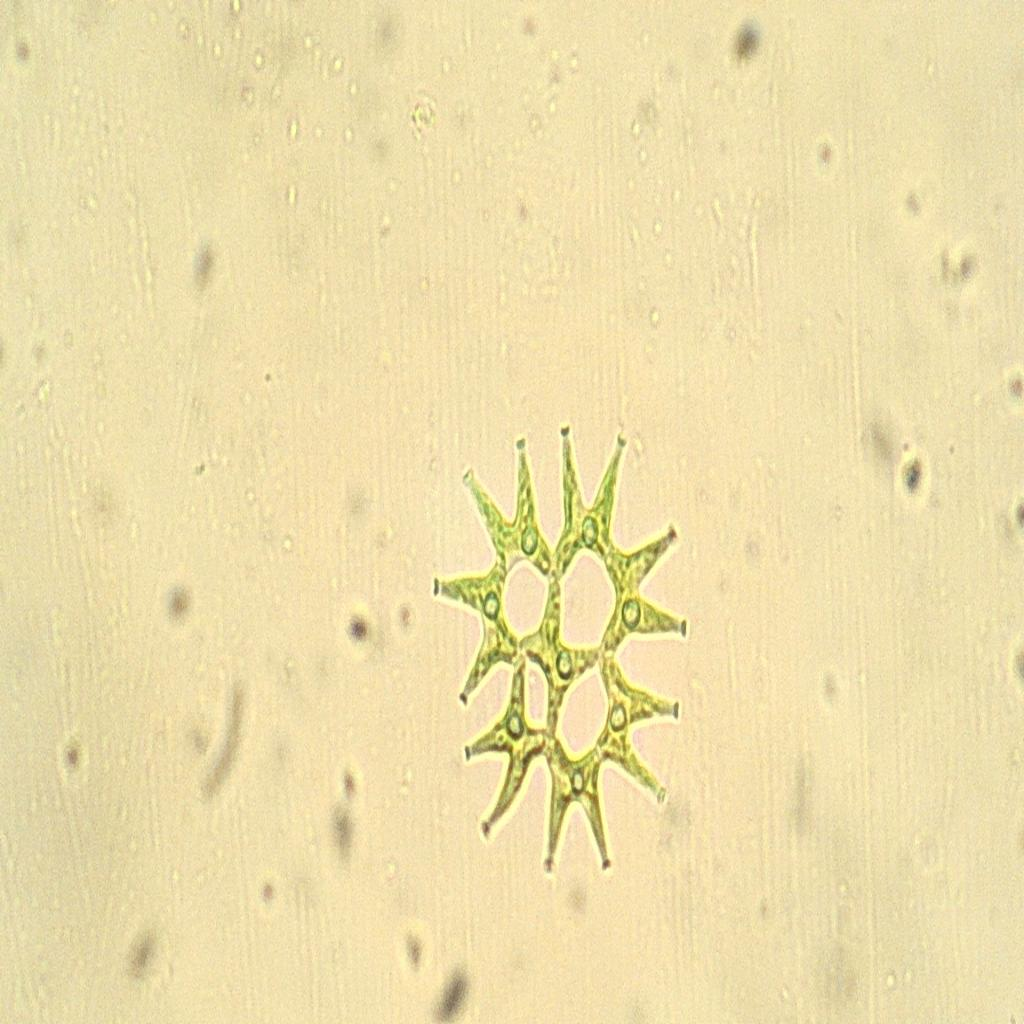Pediastrum_1T: (419, 401, 711, 889)
